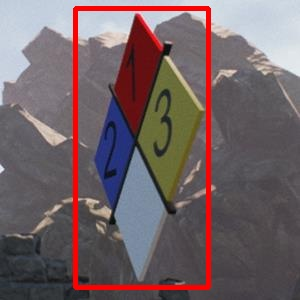nfpa: (75, 8, 208, 287)
